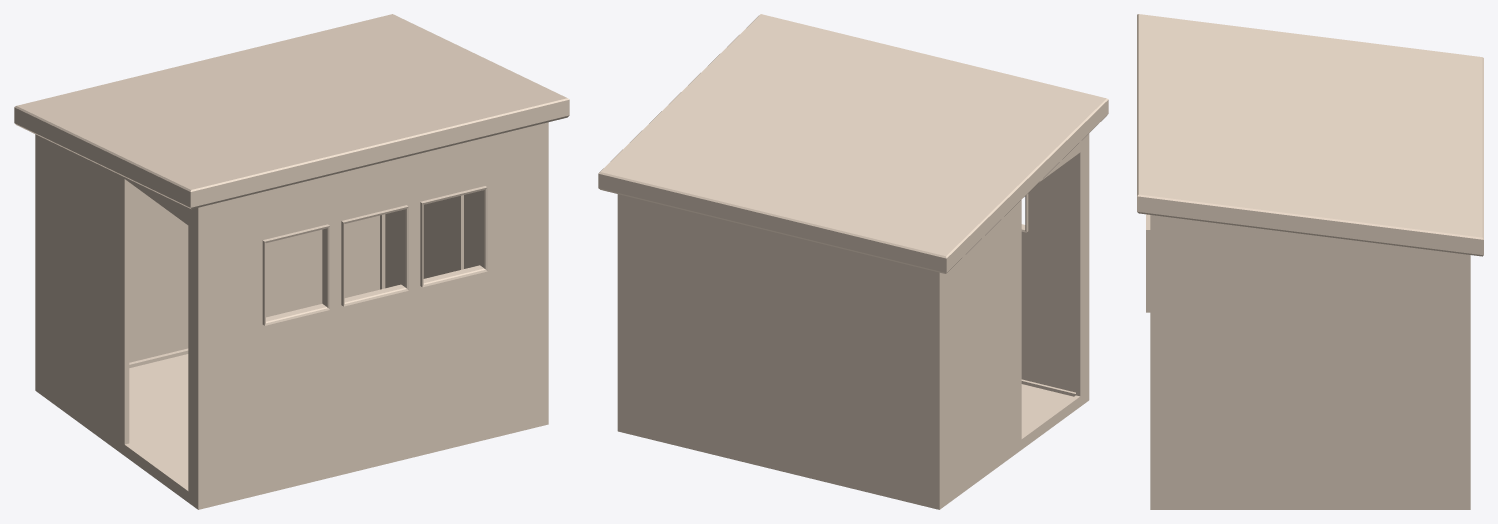
The model's file is shed.obj.
3 views of the same model, side by side, from view 1: azimuth 30°, elevation 25°; view 2: azimuth 150°, elevation 25°; view 3: azimuth 270°, elevation 25° (orthographic). The views are drawn at different scales.
Visible parts, largest first — view 1: shed.obj; view 2: shed.obj; view 3: shed.obj.
Boxes of the visible parts, x1,y1,x2,y2 form: shed.obj: (14,14,569,509); shed.obj: (598,14,1108,509); shed.obj: (1137,14,1483,509).
Bounding box in the file's own units: 26.09 × 21.53 × 21.03.
